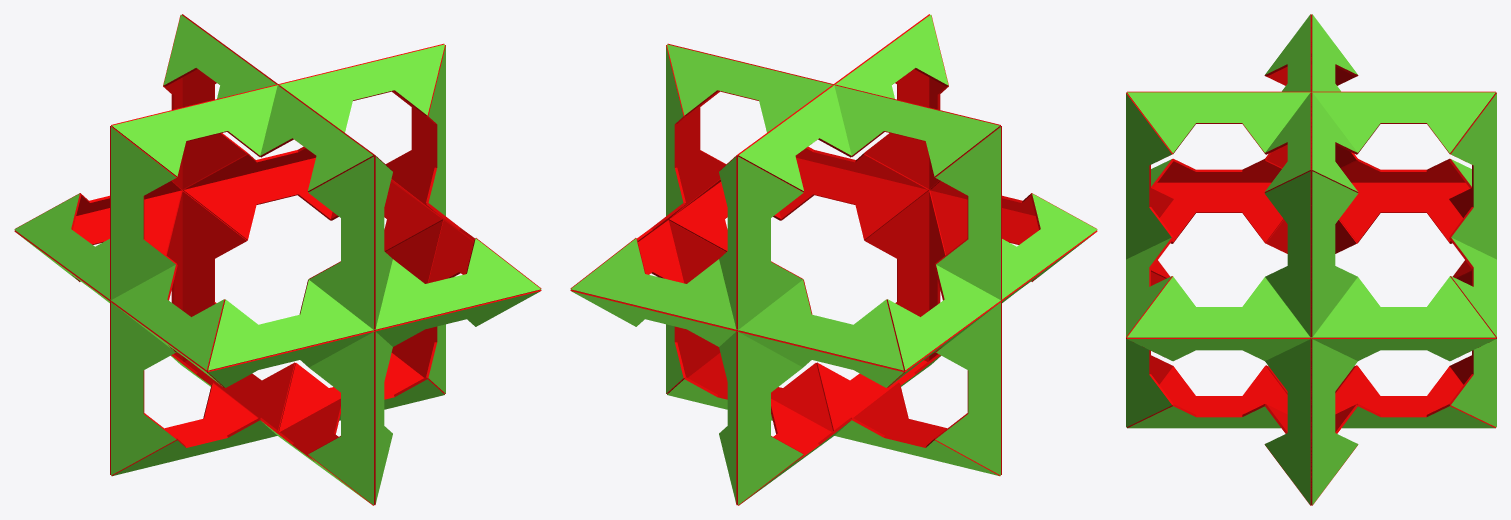
The model's file is EscherS1.glb.
3 renders of one model, left to right at view 1: azimuth 30°, elevation 25°; view 2: azimuth 150°, elevation 25°; view 3: azimuth 270°, elevation 25°, orthographic. The views are drawn at different scales.
Parts seen in each view (by area): view 1: Mesh_0002_1, Mesh_0002; view 2: Mesh_0002_1, Mesh_0002; view 3: Mesh_0002_1, Mesh_0002.
Boxes of the visible parts, x1,y1,x2,y2 form: Mesh_0002_1: [14, 14, 540, 504]; Mesh_0002: [14, 14, 541, 505]; Mesh_0002_1: [571, 14, 1097, 504]; Mesh_0002: [570, 14, 1097, 505]; Mesh_0002_1: [1126, 14, 1496, 504]; Mesh_0002: [1126, 14, 1496, 505].
Bounding box in the file's own units: 7.42 × 7.42 × 7.42.
